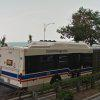Bus: (2, 39, 96, 87)
